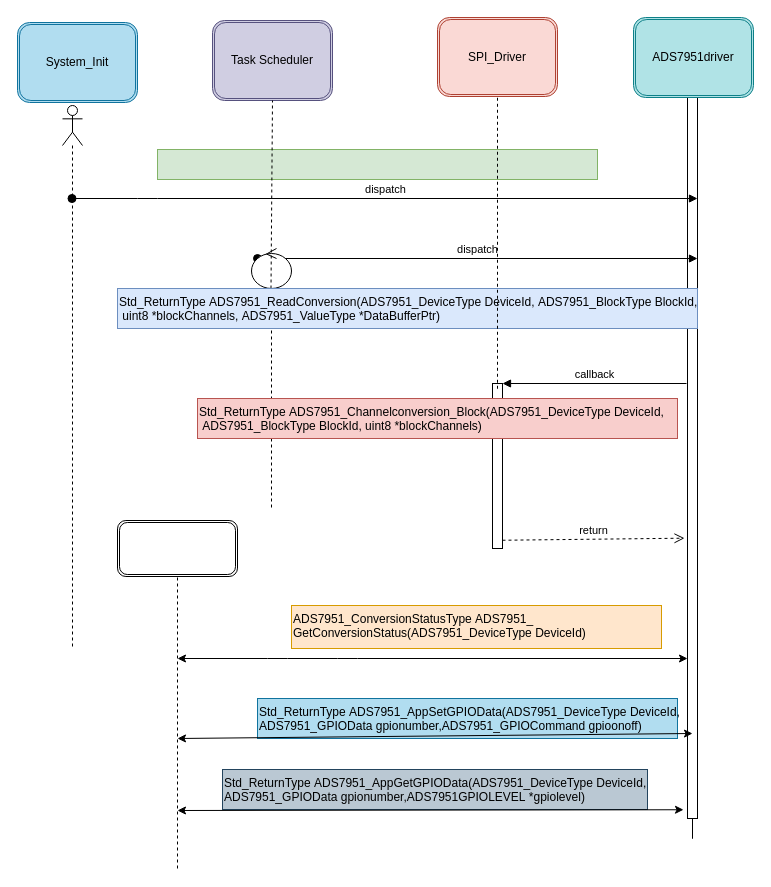
Image size: 771x887. Some labels were removed from this diagram. The shapes that lost their labels are listed below. From the top down, each one's centre as x and y in pixels, then its label:
point (377, 164): void ADS7951_Init(const ADS7951_ConfigType *ConfigPtr)
point (177, 548): Application
